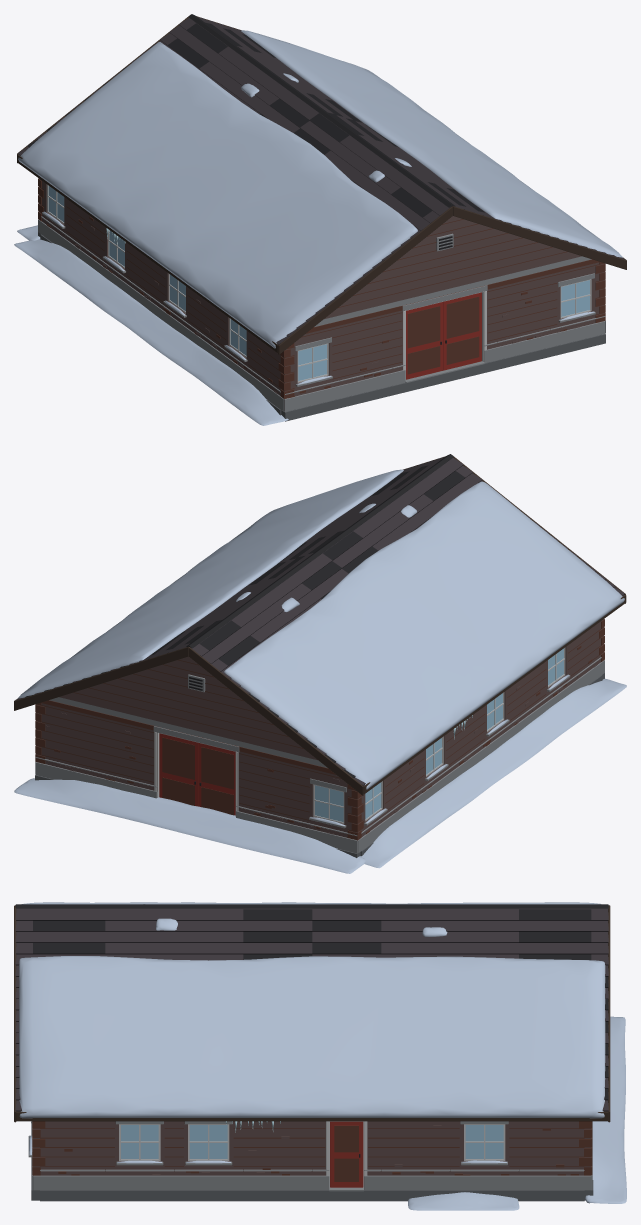
The model's file is sawmill_shed.glb.
3 views of the same model, one above another, from view 1: azimuth 30°, elevation 25°; view 2: azimuth 150°, elevation 25°; view 3: azimuth 270°, elevation 25° (orthographic). The views are drawn at different scales.
Visible parts, largest first — view 1: Roof, Walls0_S, Floor0, Walls0_W, Walls0_S_Stub, Door_1, Door_0, Walls0_W_Stub, Window_0, Window_1; view 2: Roof, Floor0, Walls0_N, Walls0_W, Walls0_N_Stub, Door_3, Door_2, Walls0_W_Stub, Window_2; view 3: Roof, Walls0_E, Floor0, Walls0_E_Stub, Door_4, Window_4, Window_5, Window_3, Walls0_S, Walls0_N.
Boxes of the visible parts, x1=… form: Roof: x1=17, y1=14, x2=626, y2=354; Walls0_S: x1=278, y1=259, x2=605, y2=411; Floor0: x1=14, y1=225, x2=605, y2=425; Walls0_W: x1=41, y1=181, x2=281, y2=408; Walls0_S_Stub: x1=281, y1=316, x2=605, y2=411; Door_1: x1=443, y1=292, x2=481, y2=370; Door_0: x1=406, y1=302, x2=443, y2=379; Walls0_W_Stub: x1=41, y1=216, x2=280, y2=395; Window_0: x1=298, y1=344, x2=326, y2=380; Window_1: x1=561, y1=280, x2=589, y2=316; Roof: x1=14, y1=454, x2=626, y2=795; Floor0: x1=14, y1=673, x2=626, y2=873; Walls0_N: x1=35, y1=700, x2=363, y2=853; Walls0_W: x1=360, y1=621, x2=601, y2=850; Walls0_N_Stub: x1=35, y1=757, x2=361, y2=853; Door_3: x1=159, y1=733, x2=198, y2=806; Door_2: x1=198, y1=743, x2=235, y2=815; Walls0_W_Stub: x1=361, y1=657, x2=601, y2=835; Window_2: x1=315, y1=785, x2=343, y2=822; Roof: x1=14, y1=902, x2=610, y2=1132; Walls0_E: x1=40, y1=1121, x2=584, y2=1191; Floor0: x1=31, y1=1016, x2=626, y2=1210; Walls0_E_Stub: x1=40, y1=1169, x2=584, y2=1190; Door_4: x1=330, y1=1121, x2=363, y2=1187; Window_4: x1=189, y1=1125, x2=227, y2=1158; Window_5: x1=465, y1=1125, x2=503, y2=1158; Window_3: x1=121, y1=1125, x2=158, y2=1158; Walls0_S: x1=28, y1=1121, x2=45, y2=1190; Walls0_N: x1=579, y1=1121, x2=592, y2=1190.
Size of what is drawn, in the model's own units: 13.89 by 6.63 by 17.78.
